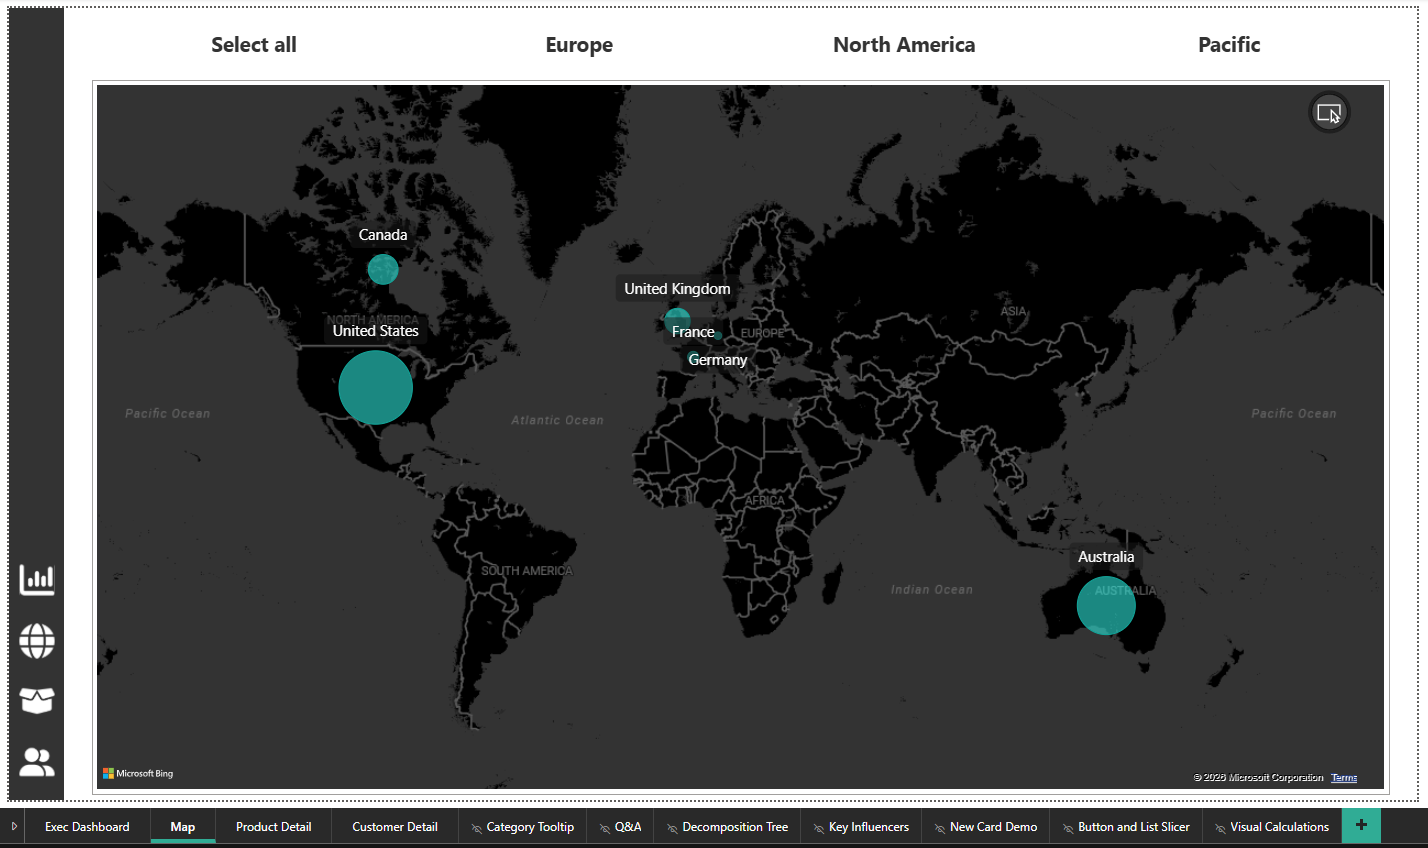

Layout of this report page (visuals, bound fields, positions):
{"tool":"powerbi","page":{"name":"Map","canvas":[1280,720],"ordinal":1},"visuals":[{"type":"shape","box":[0,0,50,720],"z":0},{"type":"actionButton","box":[5.5,555,40,40],"z":0,"group":"g1"},{"type":"map","fields":{"Category":["Territory Lookup.Country"],"Size":["Measure Table.Total Orders"]},"box":[75,65,1180,650],"z":1},{"type":"slicer","fields":{"Values":["Territory Lookup.Continent"]},"box":[50,0,1230,65],"z":2},{"type":"group","id":"g1","title":"Navigation Buttons","box":[5.5,500,40,205],"z":3},{"type":"actionButton","box":[5.5,500,40,40],"z":1000,"group":"g1"},{"type":"actionButton","box":[5.5,665,40,40],"z":2000,"group":"g1"},{"type":"actionButton","box":[5.5,610,40,40],"z":3000,"group":"g1"}]}

Visuals, with their boxes on the page's 1280x720 design canvas (x1, y1, x2, y2). These are canvas units, not pixel positions in the 1428x848 screenshot, which may show the page scaled, cropped or inside an application window:
shape: (left=0, top=0, right=50, bottom=720)
actionButton: (left=6, top=555, right=46, bottom=595)
map - Territory Lookup.Country x Measure Table.Total Orders: (left=75, top=65, right=1255, bottom=715)
slicer - Territory Lookup.Continent: (left=50, top=0, right=1280, bottom=65)
"Navigation Buttons" group: (left=6, top=500, right=46, bottom=705)
actionButton: (left=6, top=500, right=46, bottom=540)
actionButton: (left=6, top=665, right=46, bottom=705)
actionButton: (left=6, top=610, right=46, bottom=650)
